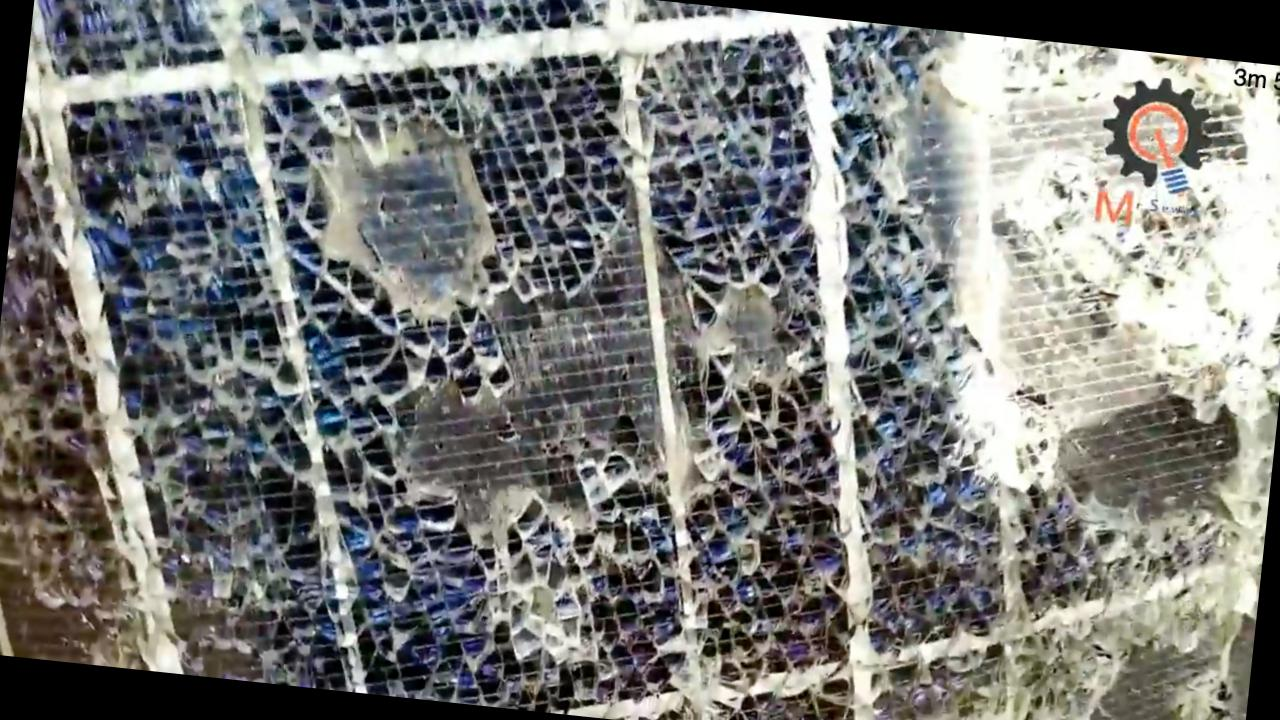Crack: (8, 0, 903, 719)
